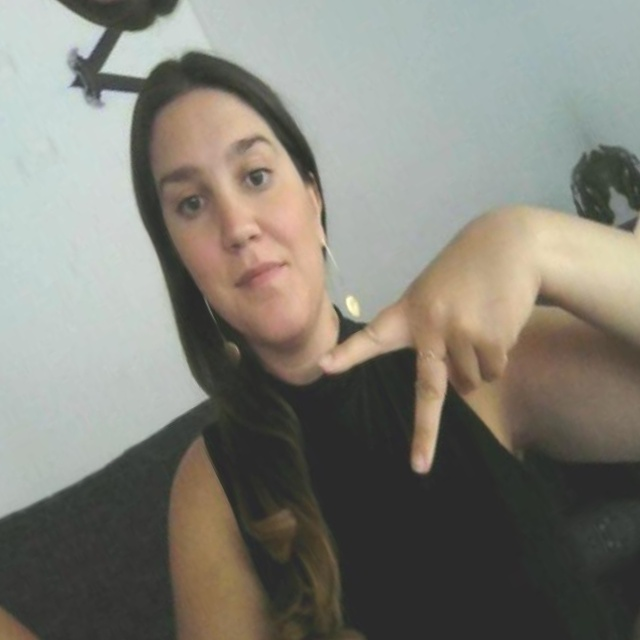Scissors: (273, 188, 622, 505)
